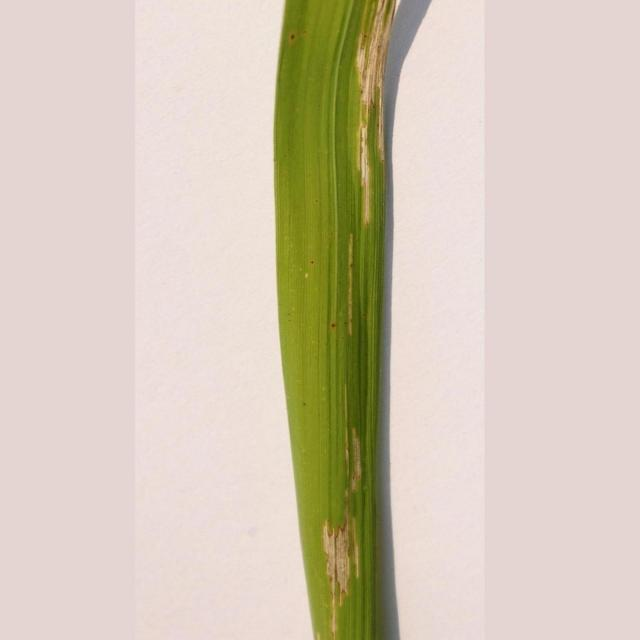leaf blight: (343, 1, 405, 229), (312, 423, 375, 636)
